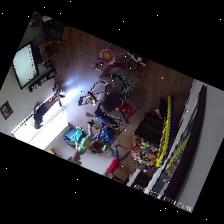person: (87, 101, 120, 150), (99, 64, 125, 112), (34, 94, 64, 128), (73, 123, 97, 161), (104, 144, 130, 177)
